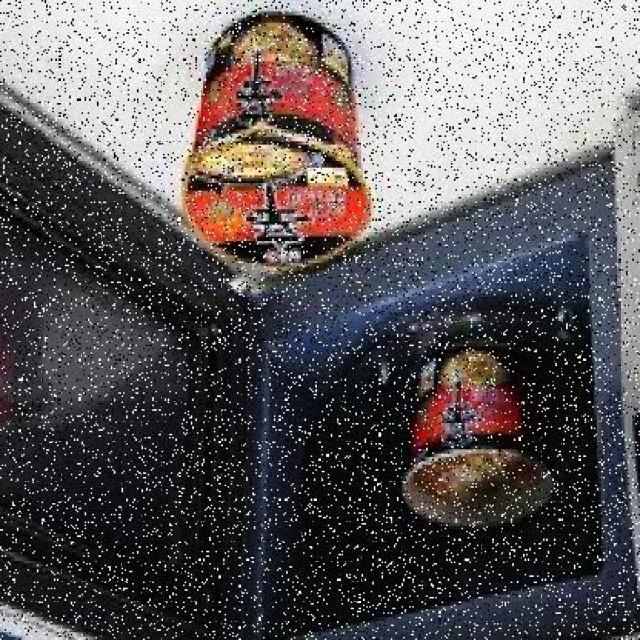Miscellaneous: (170, 2, 386, 270), (396, 310, 590, 528)
